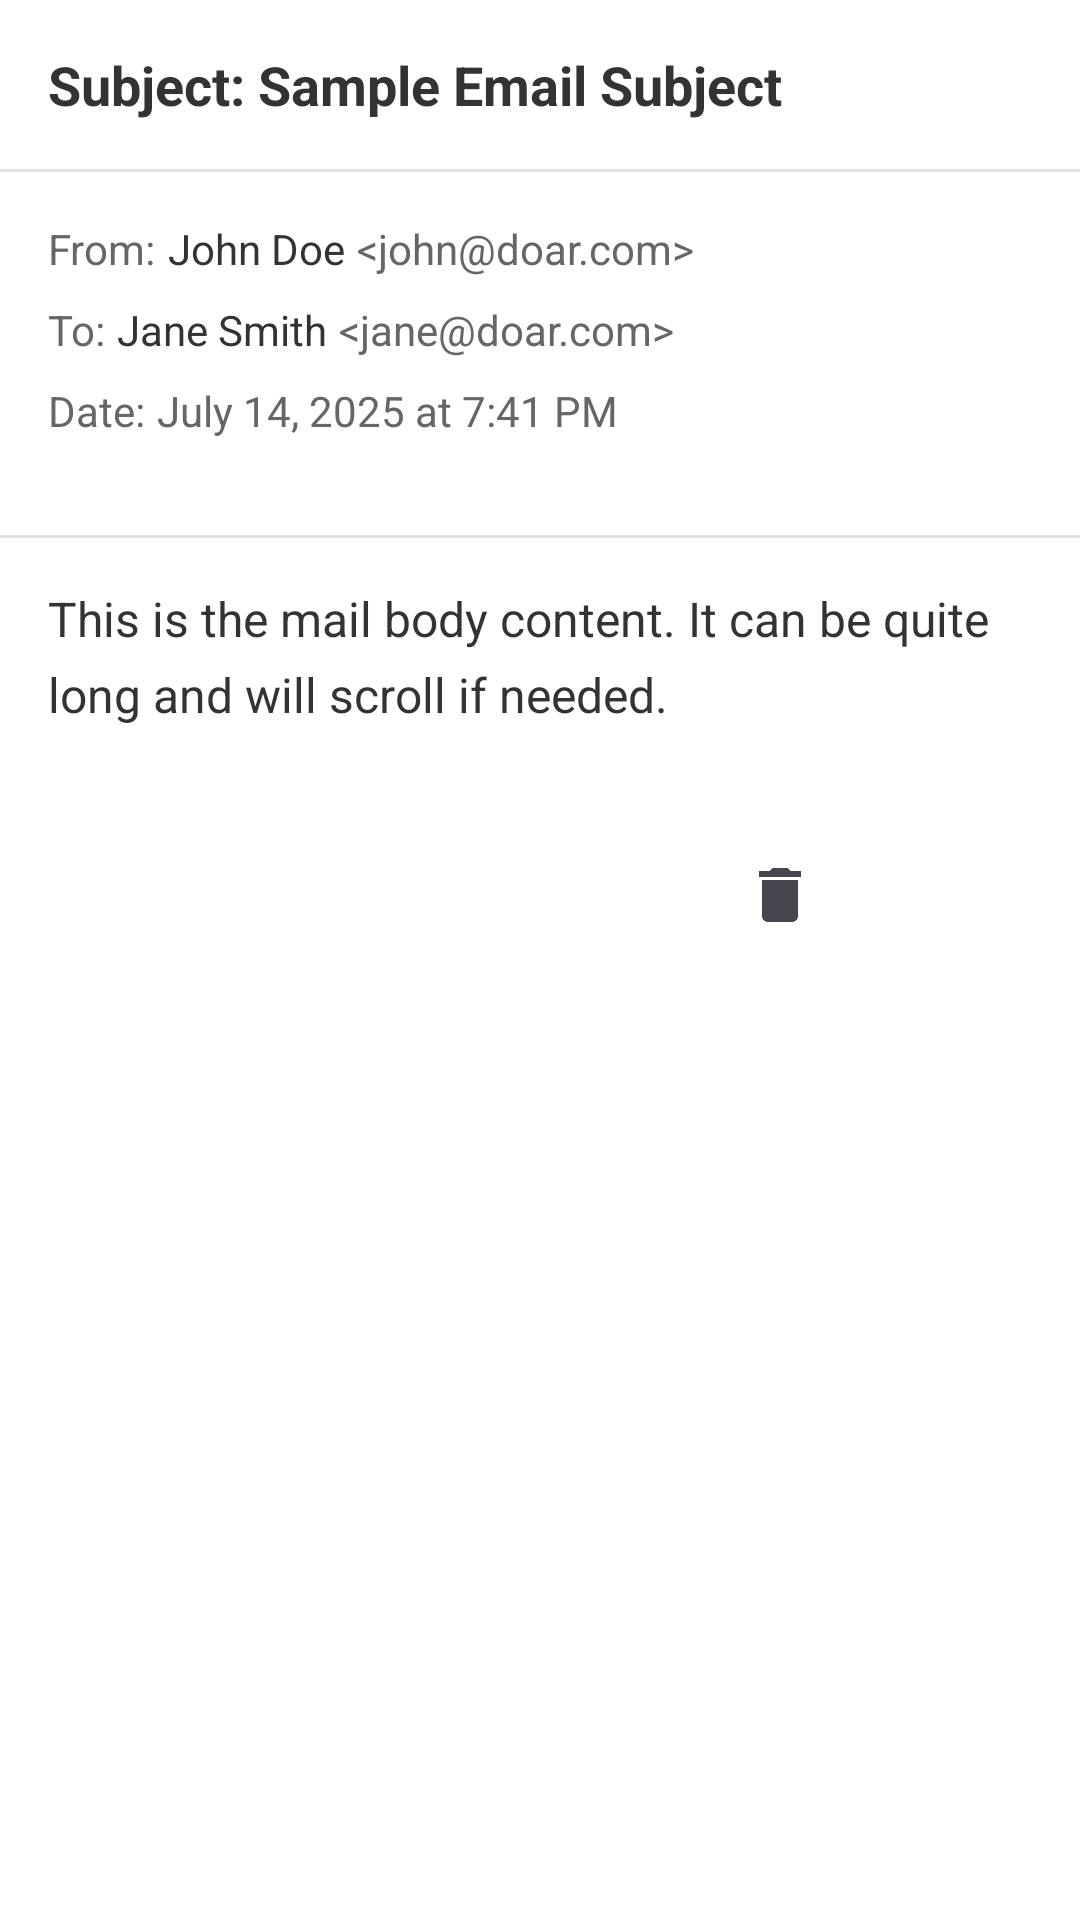

Icons on this 1080×1920 Android screen, each with the point to tap as (x,y):
Delete mail: (780,895)
